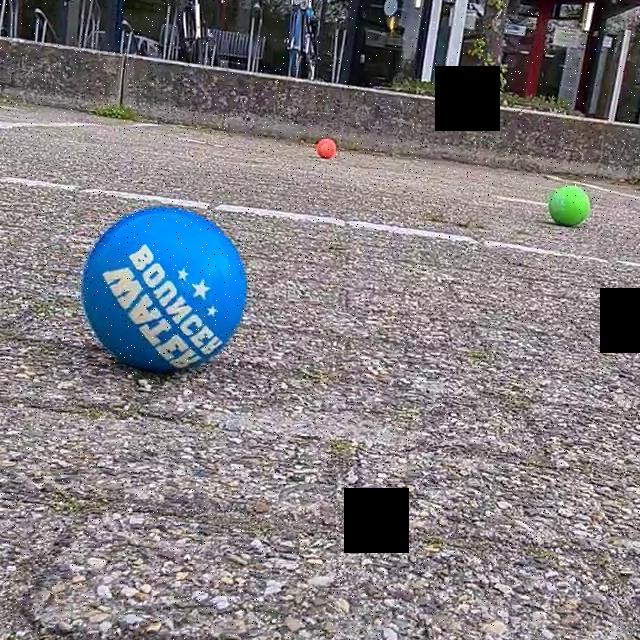ball: (546, 183, 594, 230), (312, 134, 338, 160)
